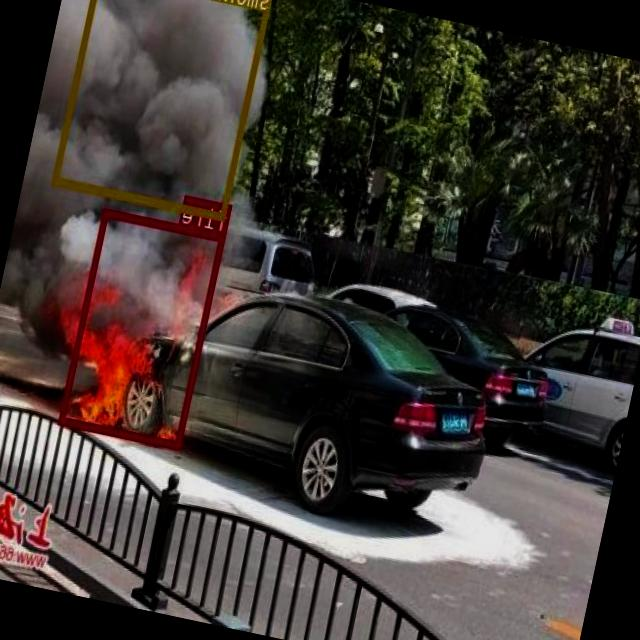fire: (59, 207, 227, 448)
smoke: (53, 0, 277, 220)
